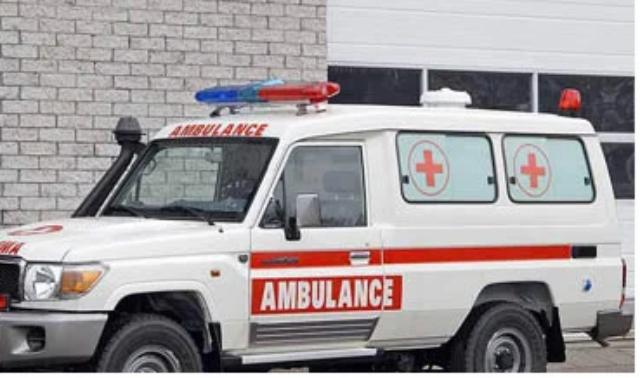ambulance: (1, 72, 633, 372)
